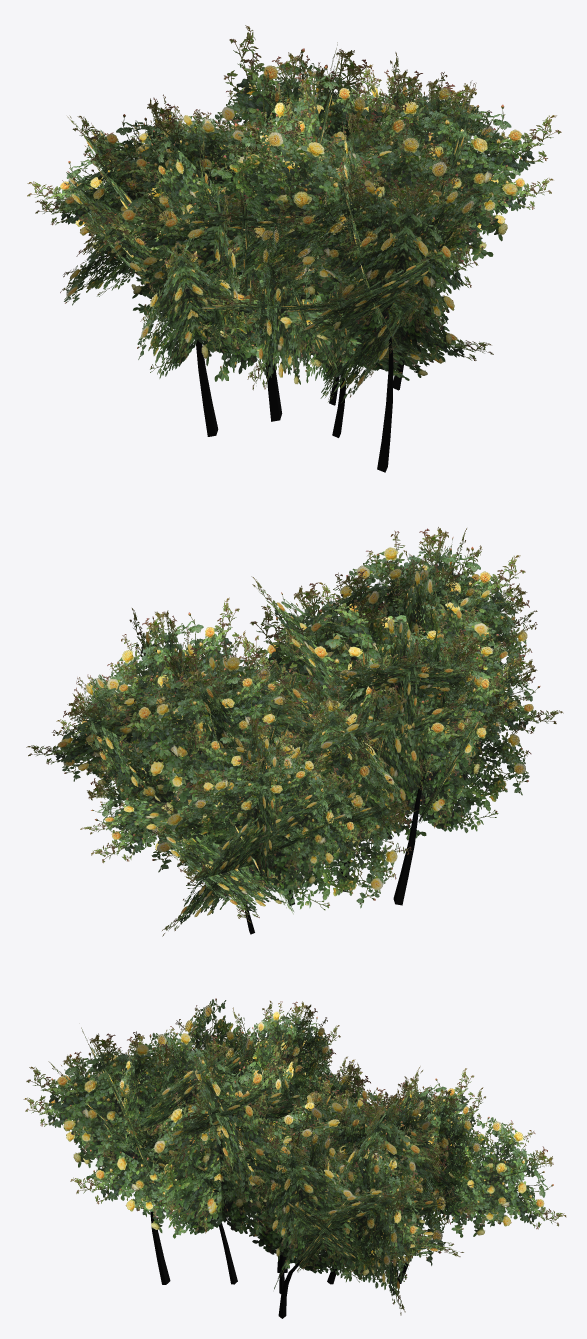
Rendered from roseb2 lod0.FBX.
3 views of the same model, one above another, from view 1: azimuth 30°, elevation 25°; view 2: azimuth 150°, elevation 25°; view 3: azimuth 270°, elevation 25° (orthographic). The views are drawn at different scales.
Parts seen in each view (by area): view 1: rose b2; view 2: rose b2; view 3: rose b2.
Part boxes in pixels (left/top/right/bottom): rose b2: left=27, top=25, right=561, bottom=472; rose b2: left=26, top=527, right=563, bottom=936; rose b2: left=23, top=998, right=566, bottom=1318.
Size of the model in its own units: 72943 by 56312 by 95176.
